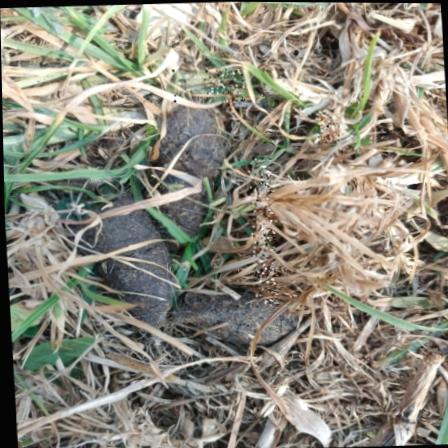dog-poop: (87, 87, 313, 350)
